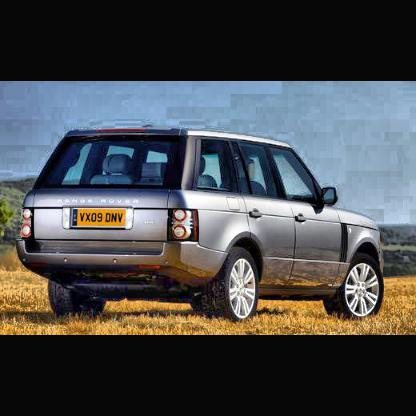Land Rover Range Rover SUV 2012: (15, 123, 387, 319)
